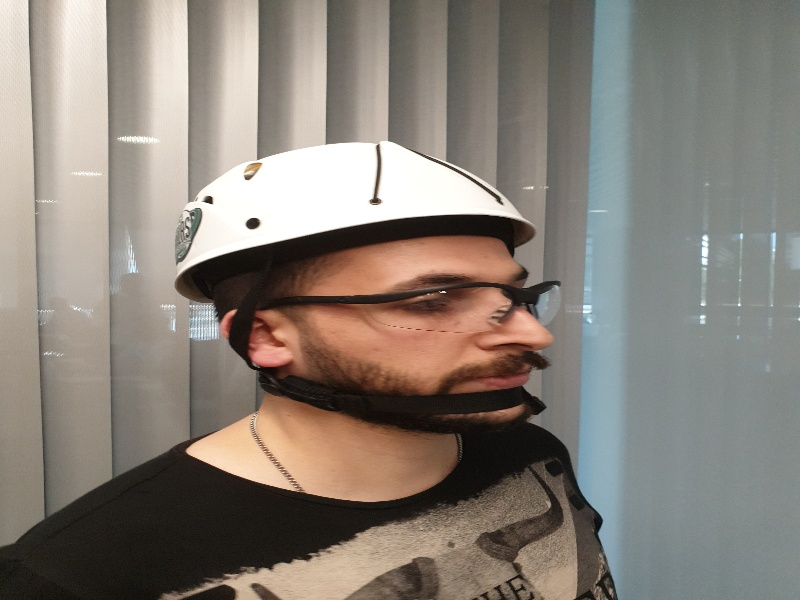Baret: (176, 144, 545, 261)
Gozluk: (275, 280, 567, 333)
